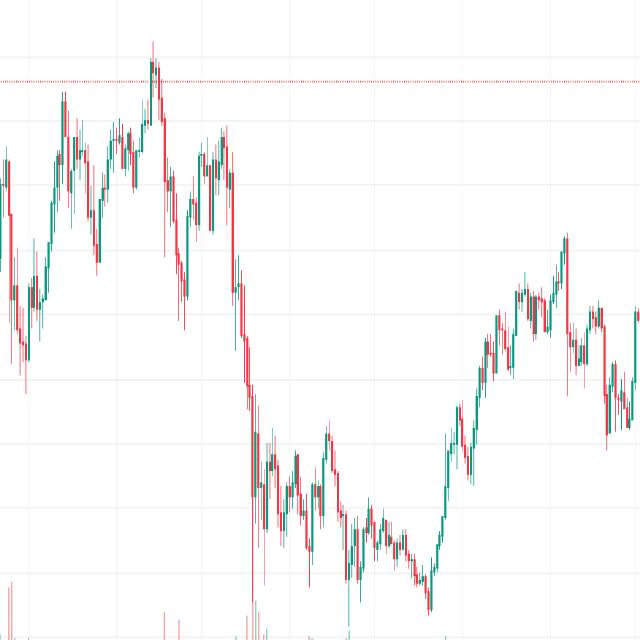Triple-Bottom: (250, 420, 332, 565)
Triple-Top: (46, 41, 264, 306)
